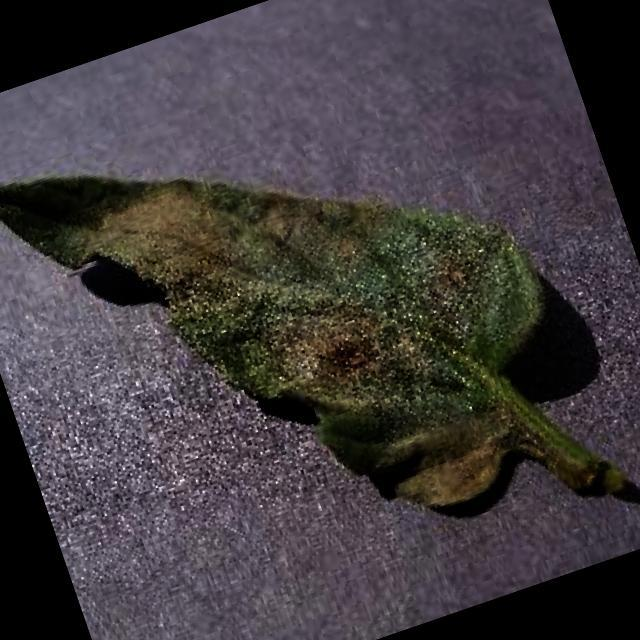Tomato late blight leaf: (0, 21, 599, 618)
